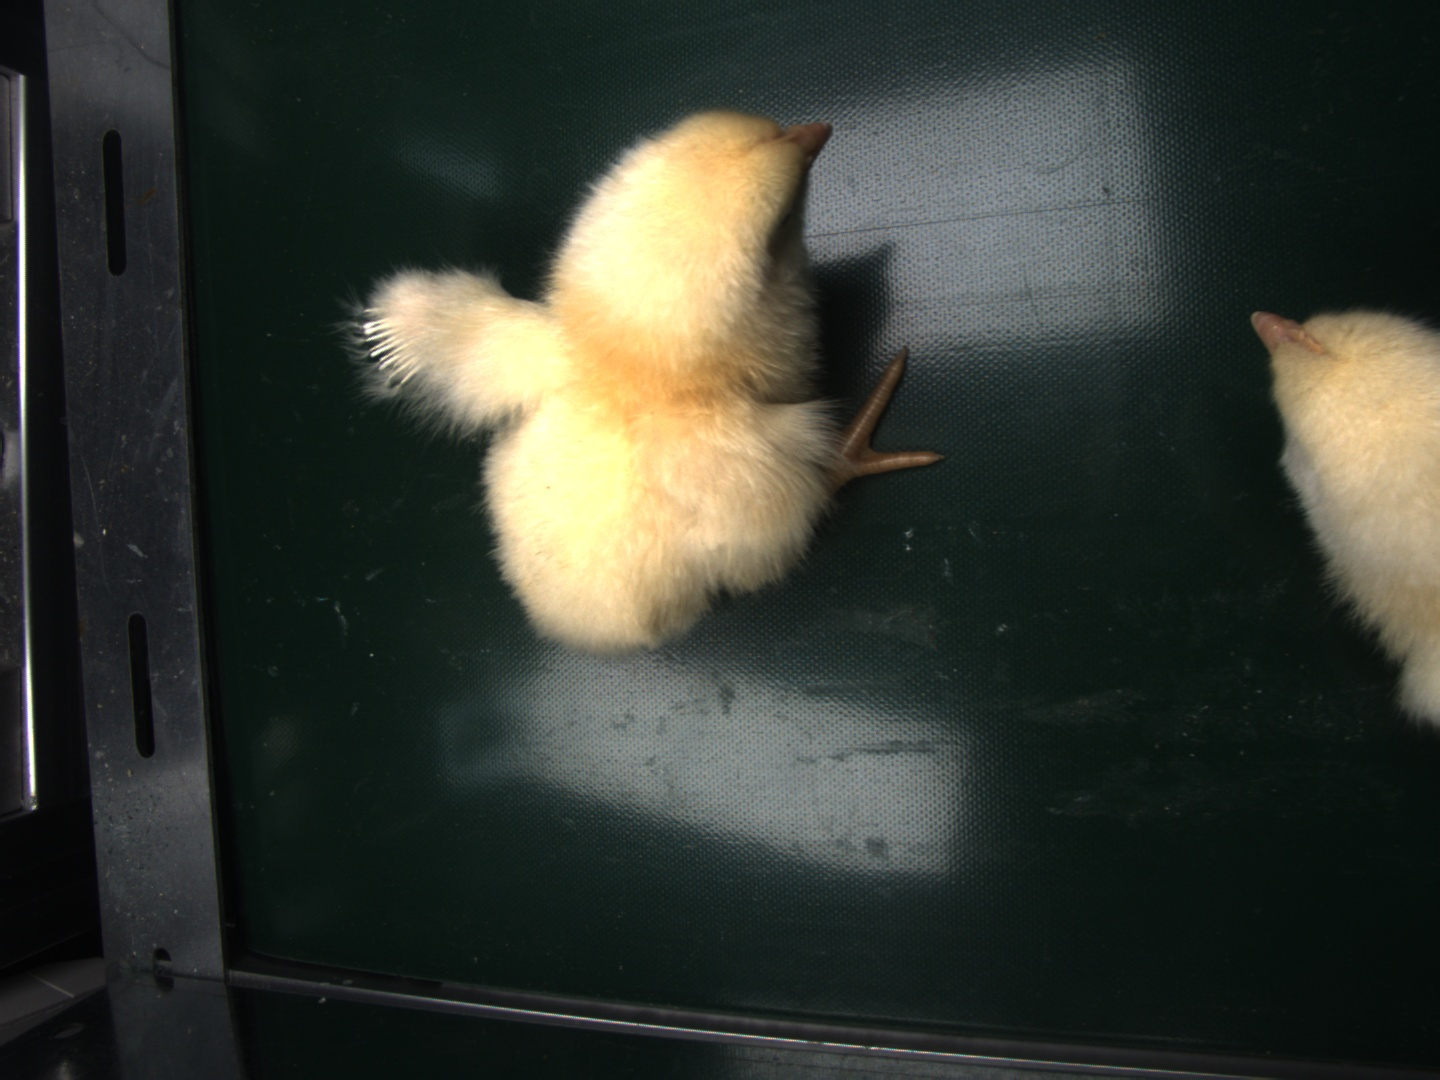male: (364, 310, 423, 383)
